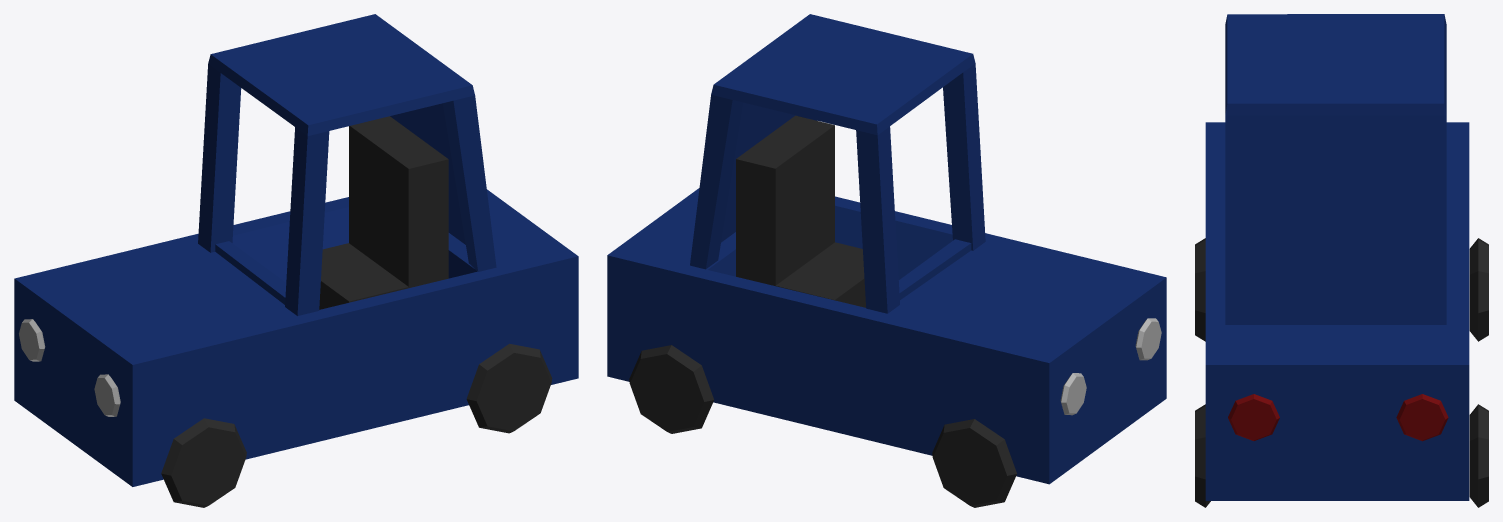
The model's file is Car4.fbx.
3 renders of one model, left to right at view 1: azimuth 30°, elevation 25°; view 2: azimuth 150°, elevation 25°; view 3: azimuth 270°, elevation 25°, orthographic. The views are drawn at different scales.
Parts seen in each view (by area): view 1: Cube; view 2: Cube; view 3: Cube.
Boxes of the visible parts, x1,y1,x2,y2 form: Cube: (14, 14, 578, 507); Cube: (607, 14, 1166, 507); Cube: (1195, 14, 1488, 507).
Size of the model in its own units: 631 by 457 by 314.
